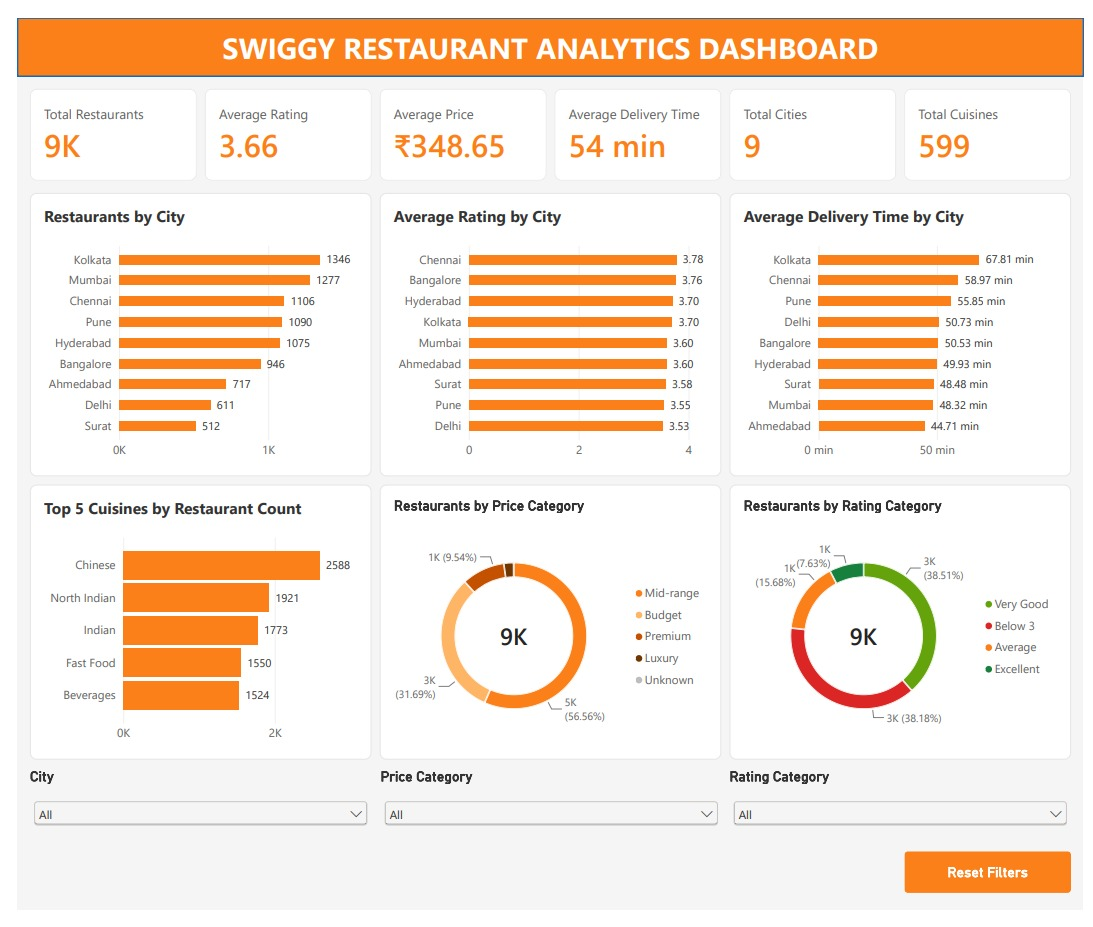

Layout of this report page (visuals, bound fields, positions):
{"tool":"powerbi","page":{"name":"Swiggy Overview","canvas":[1280,1070],"ordinal":0},"visuals":[{"type":"shape","title":"SWIGGY RESTAURANT ANALYTICS DASHBOARD","box":[0,0,1280,70],"z":0},{"type":"cardVisual","fields":{"Data":["swiggy.Total Restaurants"]},"box":[15,85,200,110],"z":1000},{"type":"cardVisual","fields":{"Data":["swiggy.Average Rating"]},"box":[225,85.1,200,110],"z":2000},{"type":"cardVisual","fields":{"Data":["swiggy.Average Price"]},"box":[435,85.1,200,110],"z":3000},{"type":"cardVisual","fields":{"Data":["swiggy.Average Delivery Time"]},"box":[645,85.1,200,110],"z":4000},{"type":"cardVisual","fields":{"Data":["swiggy.Total Cities"]},"box":[855,85.1,200,110],"z":5000},{"type":"cardVisual","fields":{"Data":["swiggy.Total Cuisines"]},"box":[1065,85.1,200,110],"z":6000},{"type":"clusteredBarChart","title":"Restaurants by City","fields":{"Category":["swiggy.City"],"Y":["swiggy.Total Restaurants"]},"box":[15,210,410,340],"z":7000},{"type":"clusteredBarChart","title":"Average Rating by City","fields":{"Category":["swiggy.City"],"Y":["swiggy.Average Rating"]},"box":[435,210,410,340],"z":8000},{"type":"clusteredBarChart","title":"Average Delivery Time by City","fields":{"Category":["swiggy.City"],"Y":["swiggy.Average Delivery Time"]},"box":[855,210,410,340],"z":9000},{"type":"clusteredBarChart","title":"Top 5 Cuisines by Restaurant Count","fields":{"Category":["Restaurant_Cuisines.Cuisine"],"Y":["Count(Restaurant_Cuisines.ID)"]},"box":[15.1,560,410.2,330],"z":10000},{"type":"donutChart","title":"Restaurants by Price Category","fields":{"Category":["swiggy.Price Category"],"Y":["swiggy.Total Restaurants"]},"box":[435,560,410,330],"z":10001},{"type":"donutChart","title":"Restaurants by Rating Category","fields":{"Category":["swiggy.Rating Category"],"Y":["swiggy.Total Restaurants"]},"box":[855,560,410,330],"z":10002},{"type":"slicer","title":"City","fields":{"Values":["swiggy.City"]},"box":[15,900,410,85],"z":10003},{"type":"slicer","title":"Price Category","fields":{"Values":["swiggy.Price Category"]},"box":[435.7,900,410,85],"z":10004},{"type":"slicer","title":"Rating Category","fields":{"Values":["swiggy.Rating Category"]},"box":[855,900,410,85],"z":10005},{"type":"actionButton","box":[1065,1000,200,50],"z":10006}]}

Visuals, with their boxes in screenshot pixels (x1, y1, x2, y2), scaled from the page's 1280x1070 canvas onto the 1093x927 screenshot:
"SWIGGY RESTAURANT ANALYTICS DASHBOARD" shape: bbox(0, 0, 1092, 61)
cardVisual - swiggy.Total Restaurants: bbox(13, 74, 184, 169)
cardVisual - swiggy.Average Rating: bbox(192, 74, 363, 169)
cardVisual - swiggy.Average Price: bbox(371, 74, 542, 169)
cardVisual - swiggy.Average Delivery Time: bbox(551, 74, 722, 169)
cardVisual - swiggy.Total Cities: bbox(730, 74, 901, 169)
cardVisual - swiggy.Total Cuisines: bbox(909, 74, 1080, 169)
"Restaurants by City" clusteredBarChart: bbox(13, 182, 363, 476)
"Average Rating by City" clusteredBarChart: bbox(371, 182, 722, 476)
"Average Delivery Time by City" clusteredBarChart: bbox(730, 182, 1080, 476)
"Top 5 Cuisines by Restaurant Count" clusteredBarChart: bbox(13, 485, 363, 771)
"Restaurants by Price Category" donutChart: bbox(371, 485, 722, 771)
"Restaurants by Rating Category" donutChart: bbox(730, 485, 1080, 771)
"City" slicer: bbox(13, 780, 363, 853)
"Price Category" slicer: bbox(372, 780, 722, 853)
"Rating Category" slicer: bbox(730, 780, 1080, 853)
actionButton: bbox(909, 866, 1080, 910)
